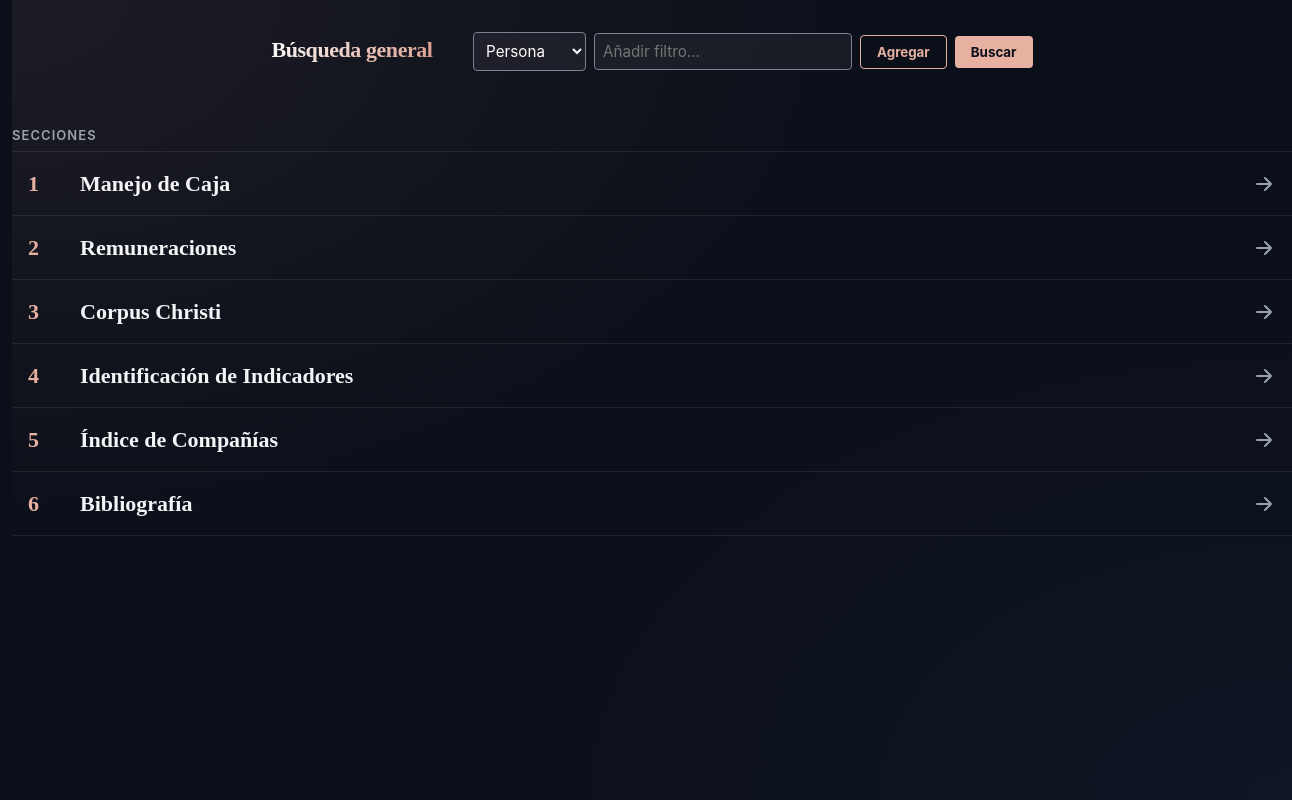
Test: Búsqueda general: texto de los resultados › Corpus: compañía inexistente y compañía sin sigla
The image size is (1292, 800).
Expected: the heading "Búsqueda general" is shown, [272,37,432,63]
Select "Texto libre" in the dropdown. click: (530, 52)
box: [473,32,586,71]
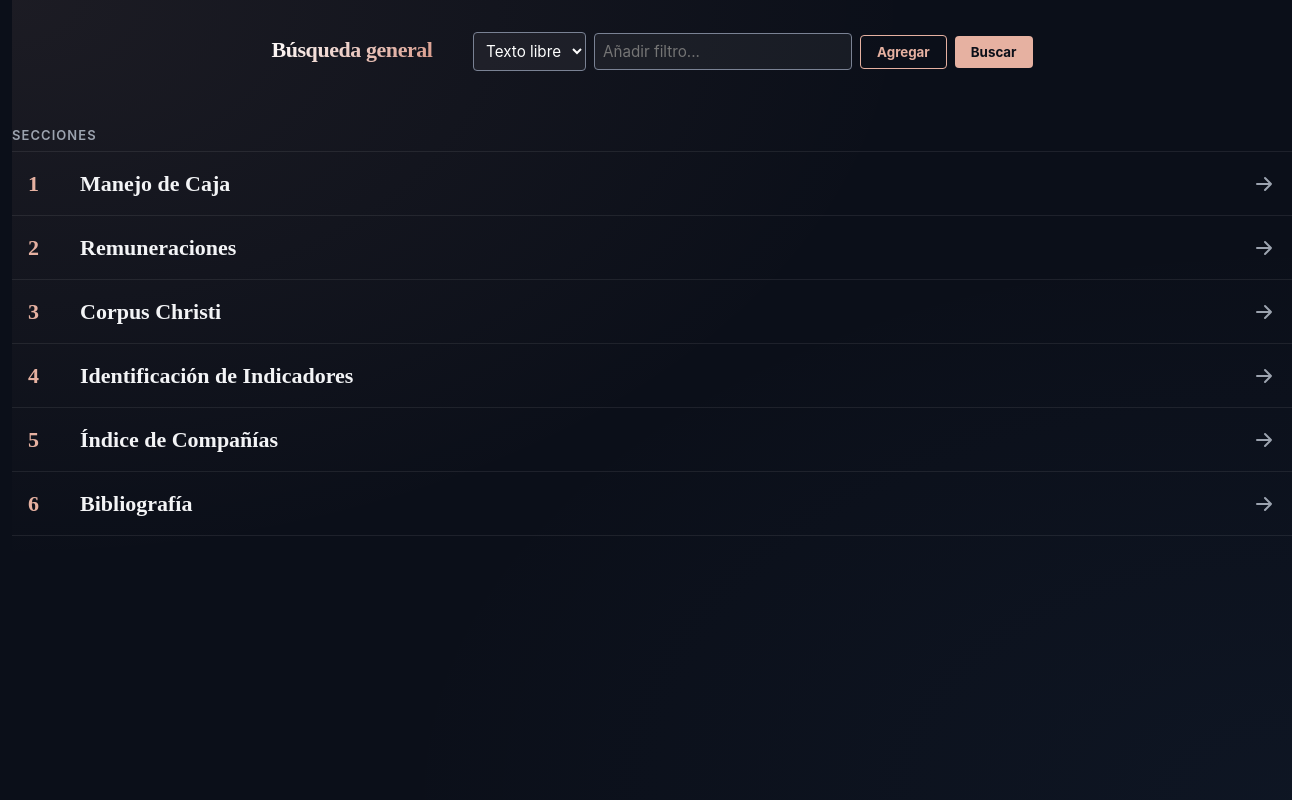
Type "Zzz" into the field with placeholder "Añadir filtro...". click: (723, 52)
box: [594,33,852,70]
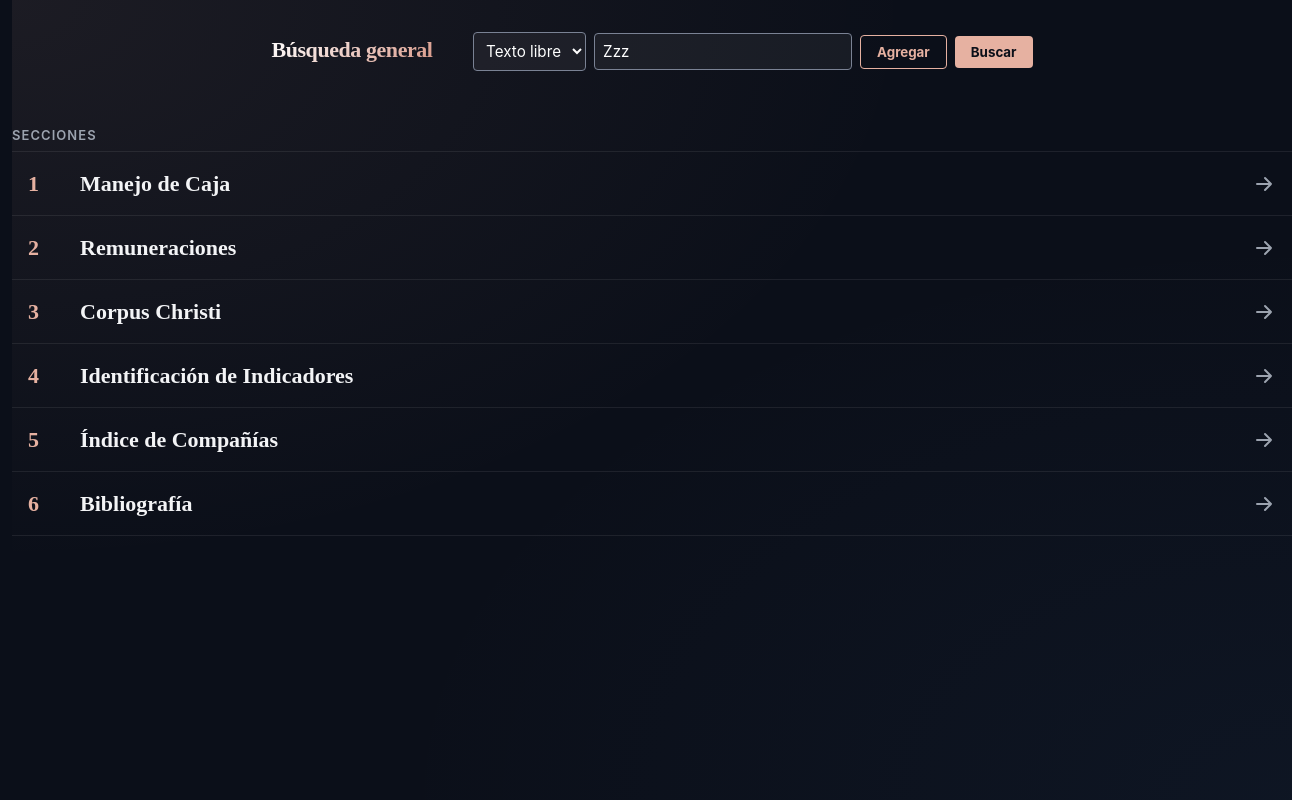
Click the button "Buscar". click: (994, 52)
box: [955,36,1032,68]
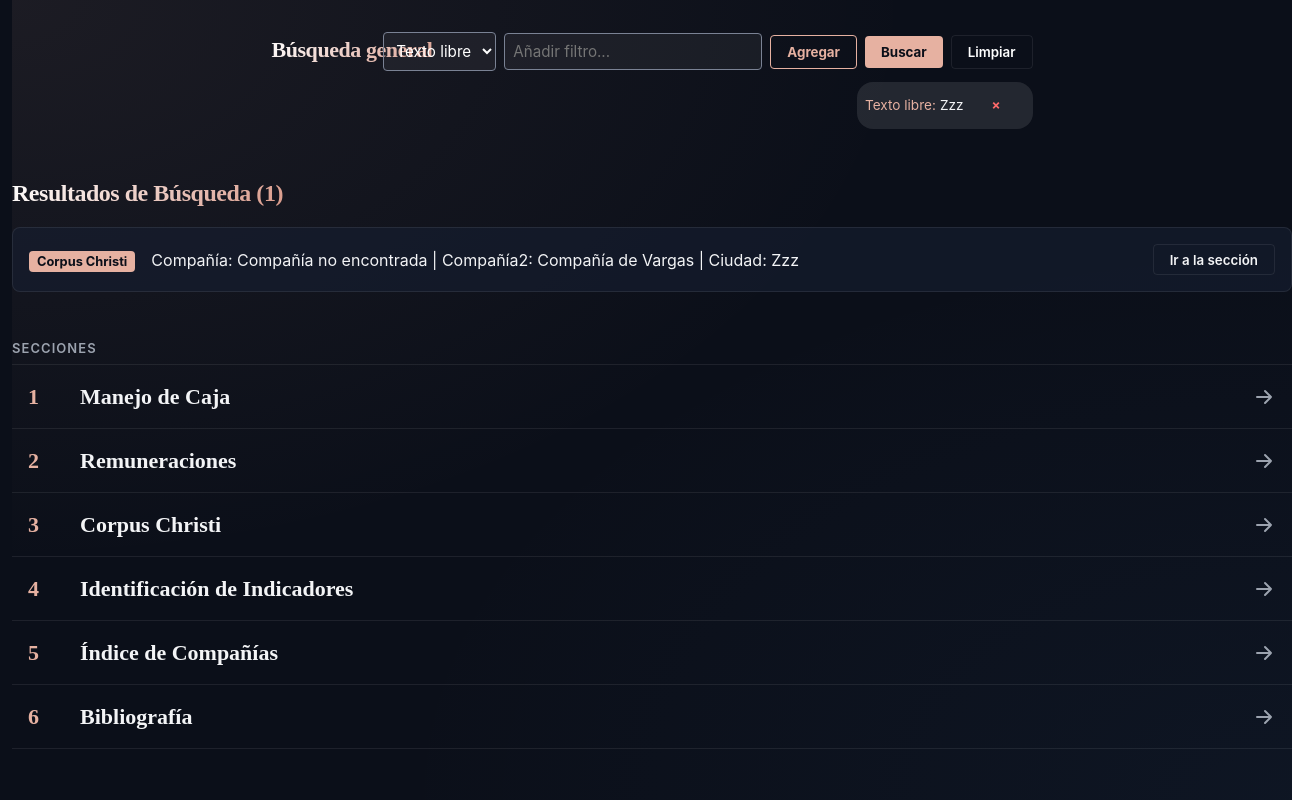
Expected: the heading "Resultados de Búsqueda (1)" is shown, [12,180,283,208]
Expected: the text "Compañía no encontrada" shows "Compañía: Compañía no encontrada", [151,250,799,270]
Expected: the text "Compañía no encontrada" shows "Compañía2: Compañía de Vargas", [151,250,799,270]
